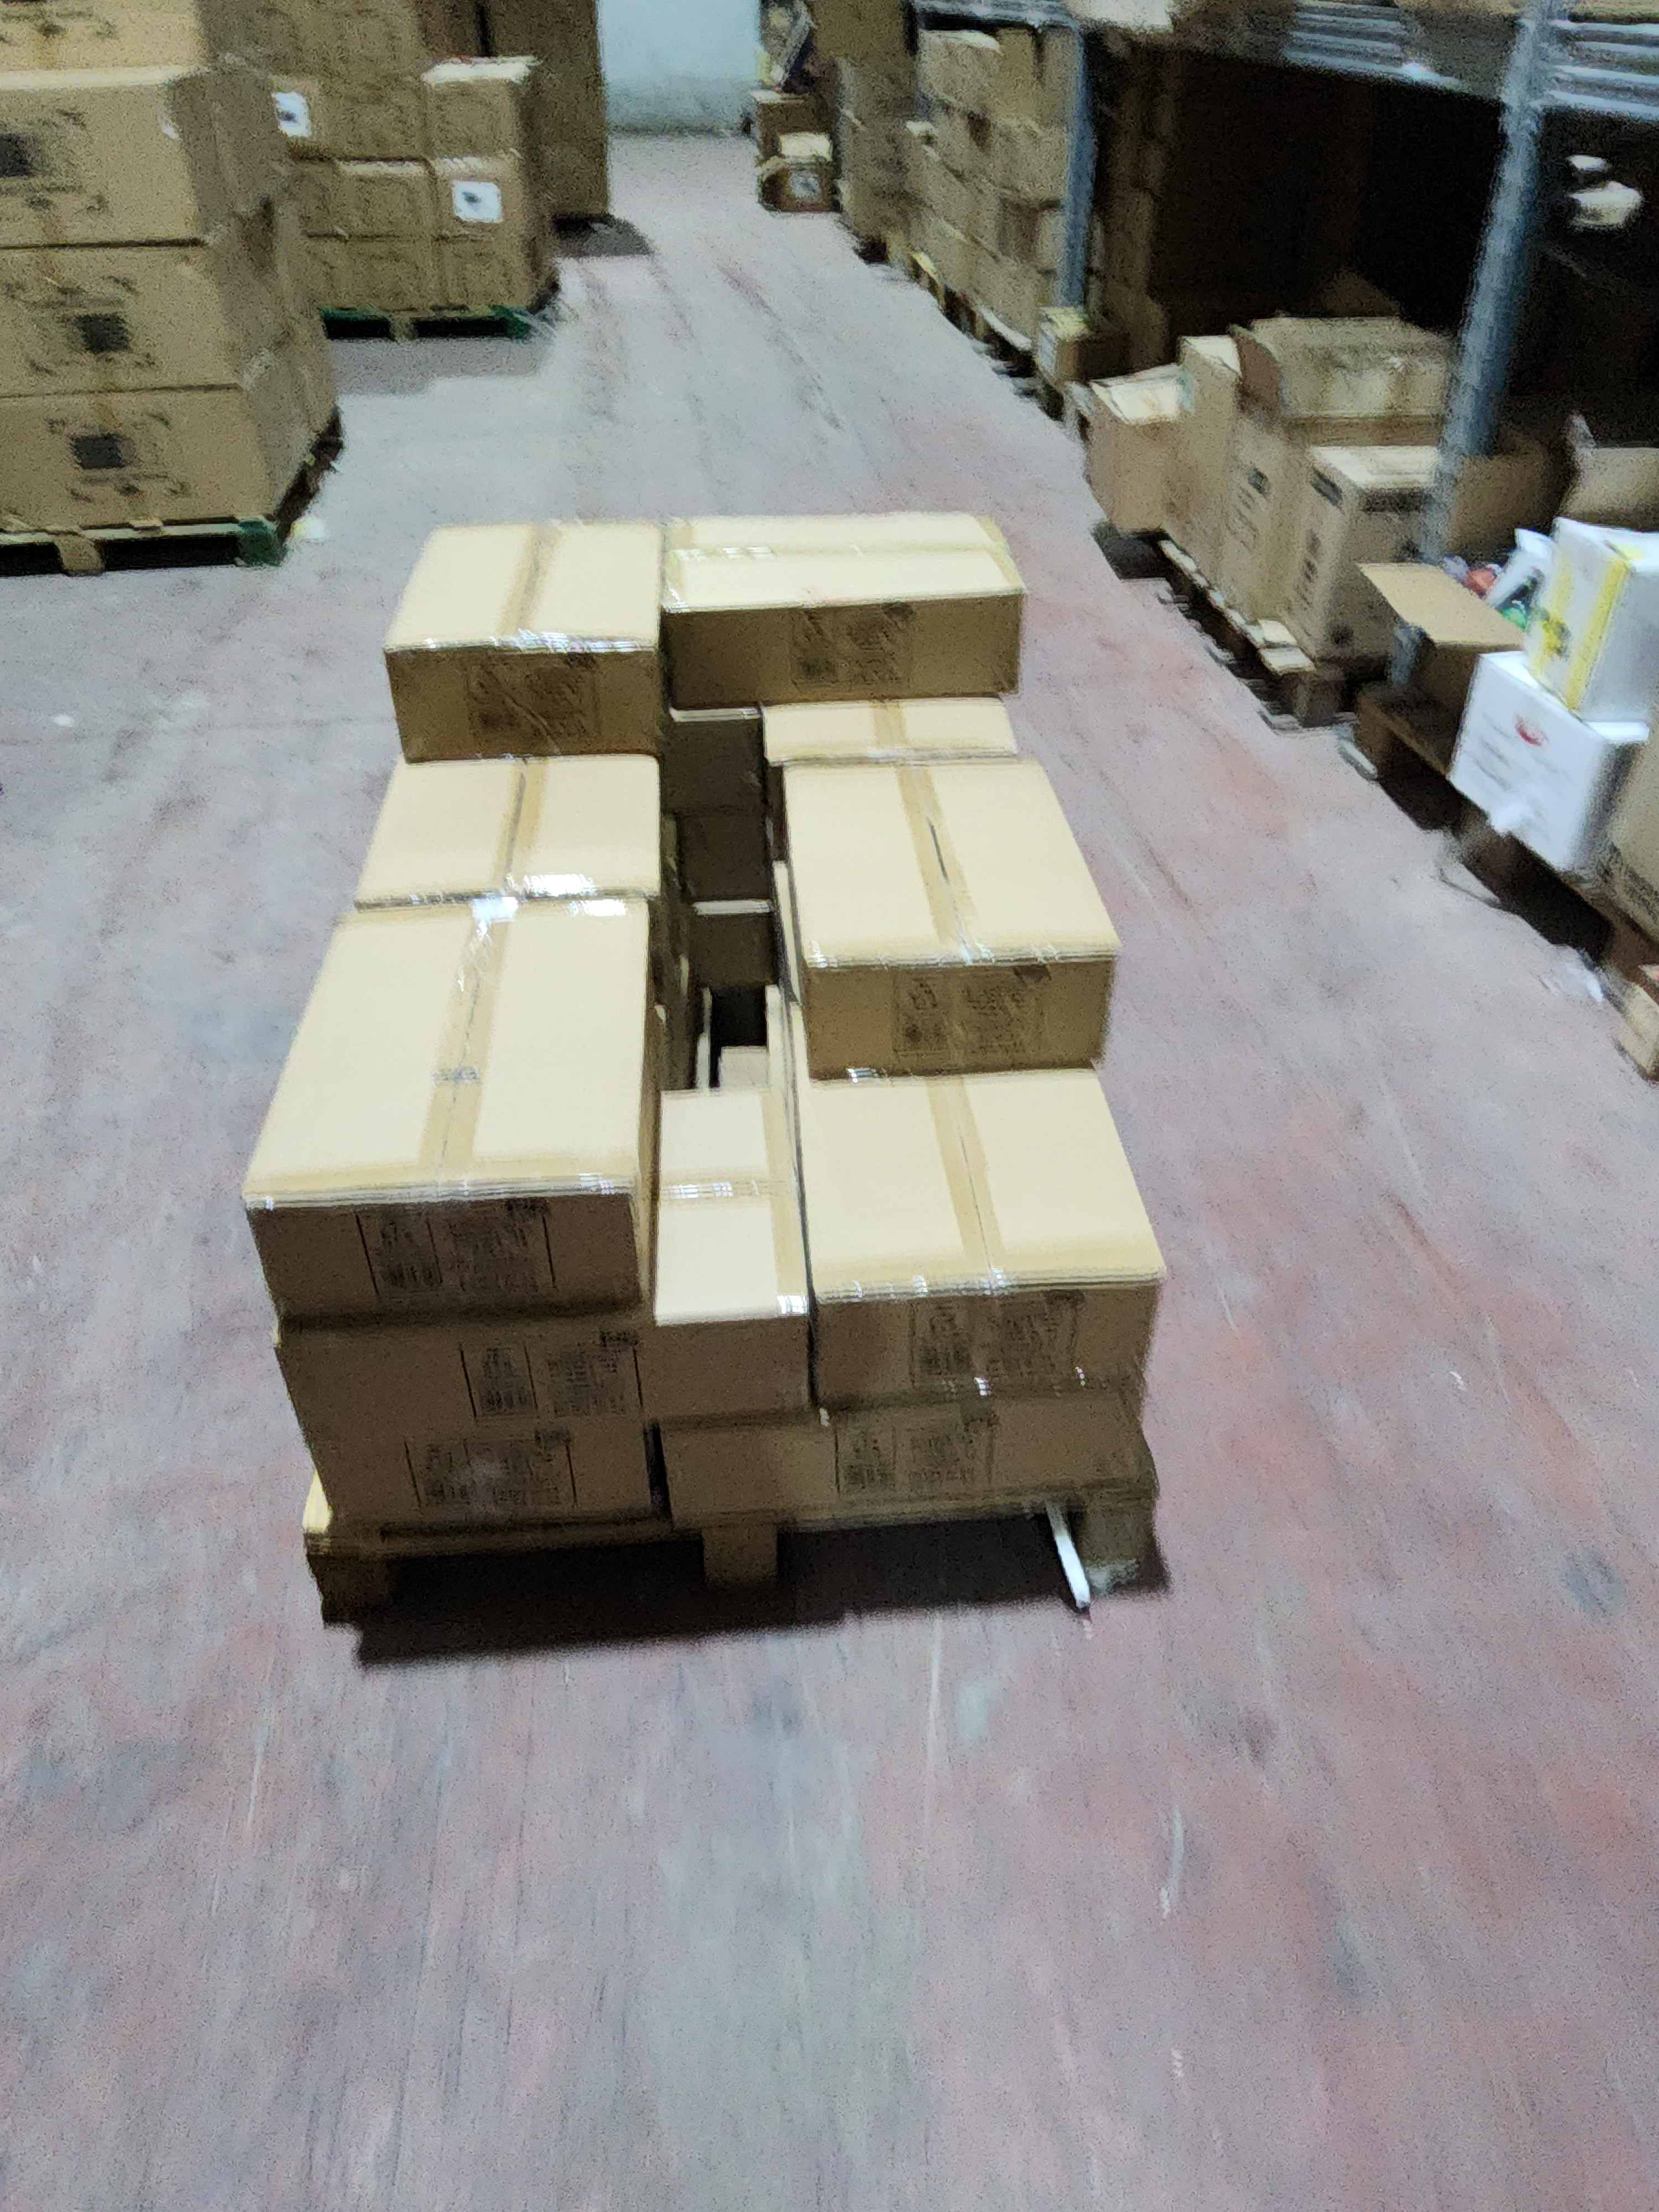box: (200, 719, 678, 1301), (760, 1035, 1204, 1402), (734, 749, 1157, 1080), (366, 498, 674, 745), (659, 498, 1039, 679), (408, 59, 568, 352)
